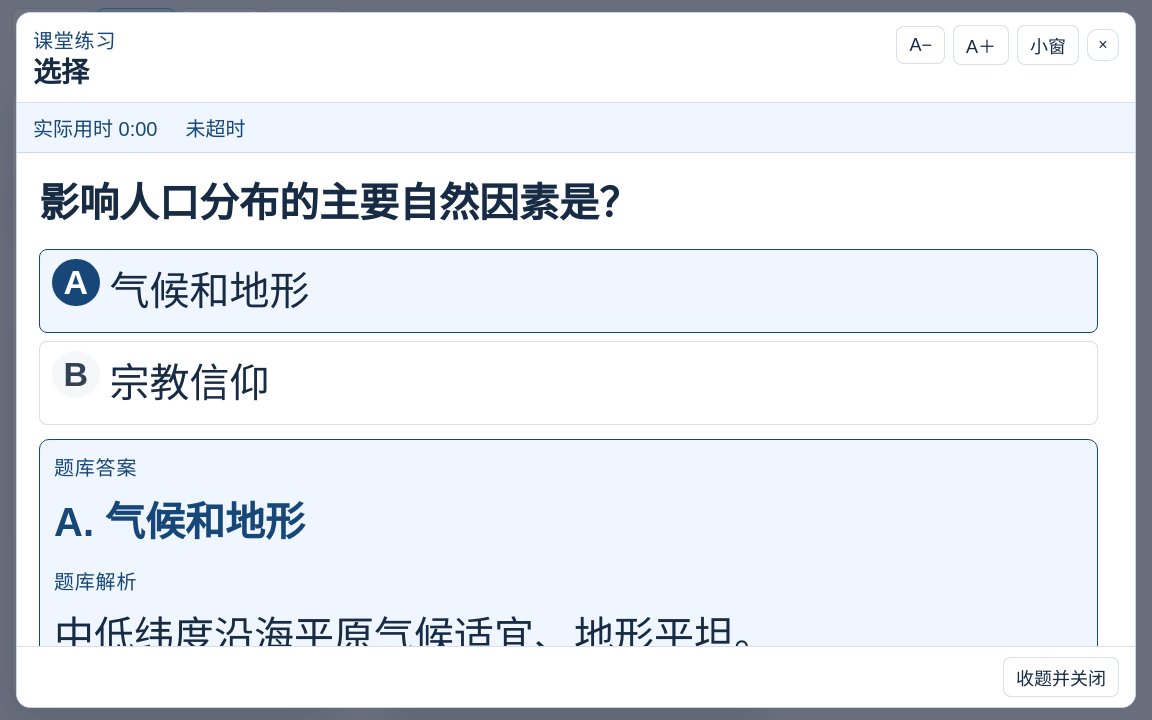
Scenario: ignores a commentary response arriving after the teacher closes the question
Click the button with test id "qpm-close". click: {"x": 1103, "y": 45}
box: [1087,29,1119,61]
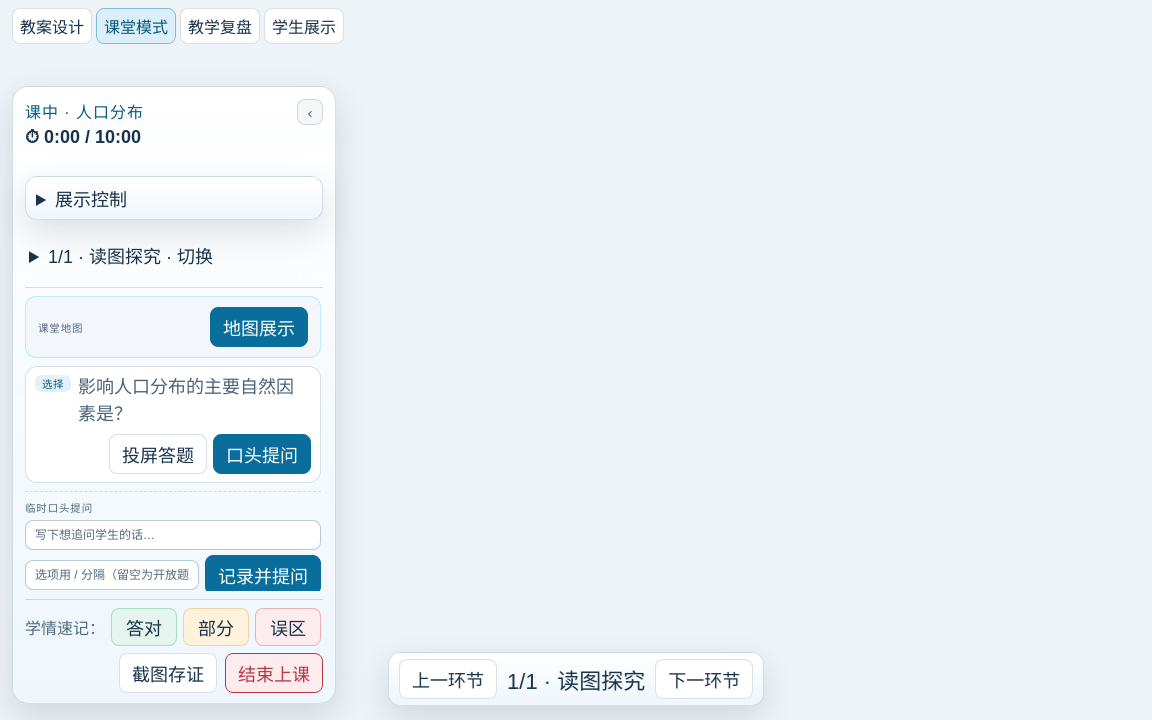
Expected: the dialog with test id "question-practice-modal" is gone
